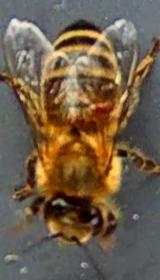varroa_mite: (83, 90, 113, 122)
